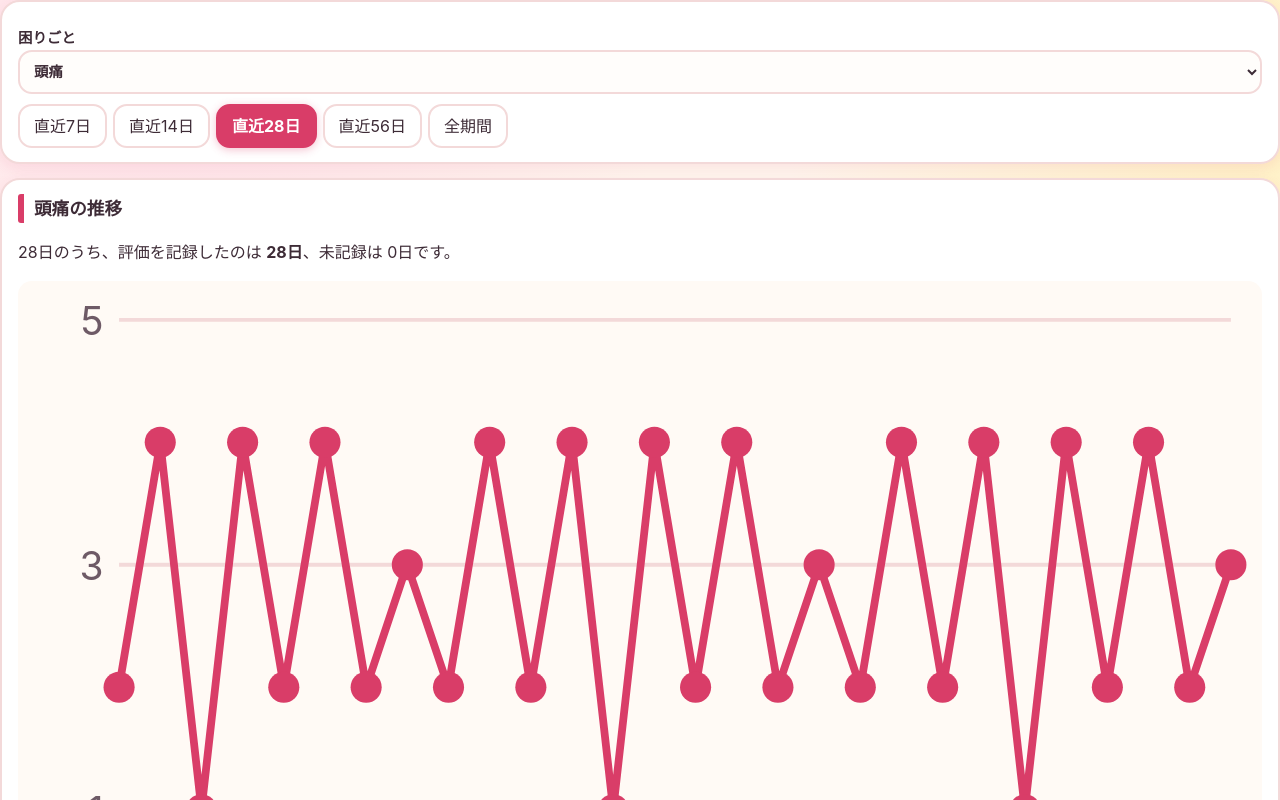
Test: ふりかえり: 関連がありそうな要因 › 上位の要因が向き（＋/－）つきで並び、押すと具体の内容が開く
The image size is (1280, 800).
Click the radio button labelled "直近28日": point(266, 126) [216, 104, 316, 148]
(page scrolled)
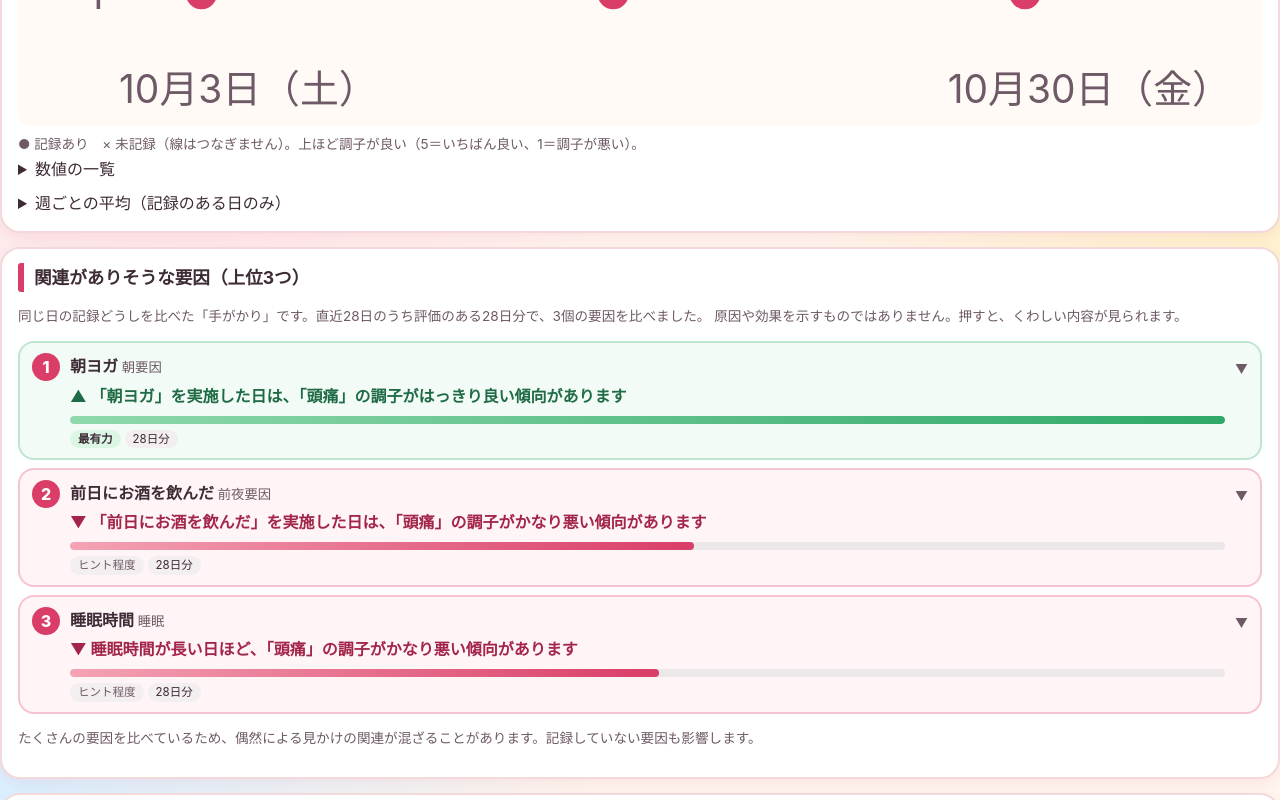
Expected: the text "考えられる理由" is not shown
Click the button that starts with "朝ヨガ": point(94, 366) [18, 341, 1262, 460]
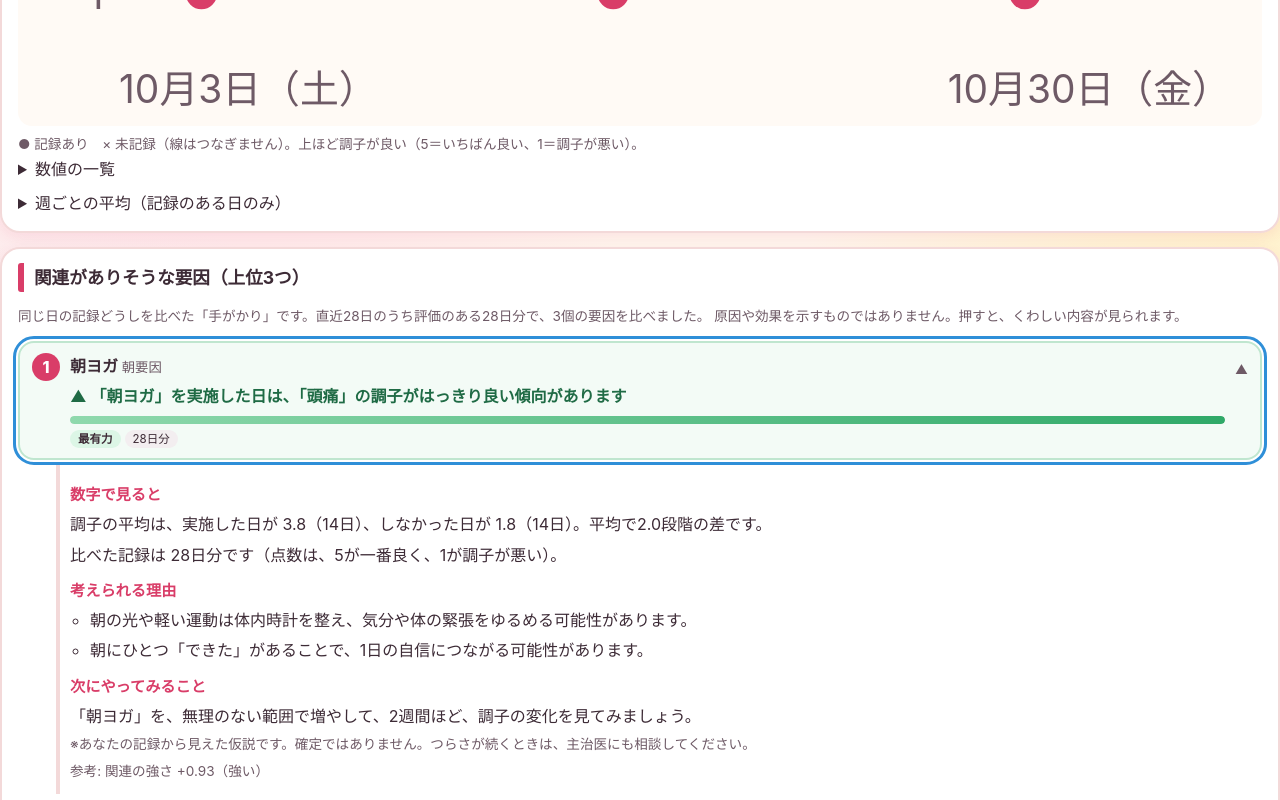
Expected: the button is expanded, [18, 341, 1262, 460]
Expected: the heading "数字で見ると" is shown, [70, 485, 161, 504]
Expected: the text "調子の平均は、実施した日が" is shown, [70, 514, 772, 534]
